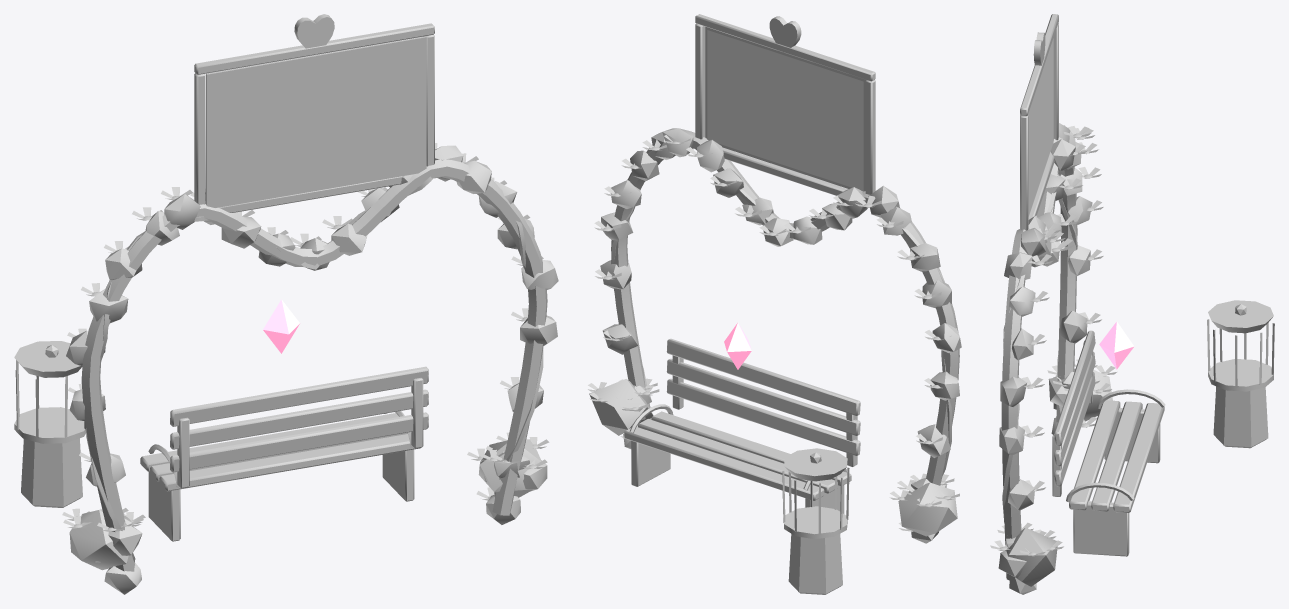
Rendered from zon_diaryring_heart.glb.
The picture shows the model from 3 angles, left to right: view 1: azimuth 30°, elevation 25°; view 2: azimuth 150°, elevation 25°; view 3: azimuth 270°, elevation 25°; orthographic projection. The views are drawn at different scales.
Visible parts, largest first — view 1: SM_zon_diaryring_heart_kit_diaryring_heart_xm1_z0, ANIM_bld_heart_marker__0; view 2: SM_zon_diaryring_heart_kit_diaryring_heart_xm1_z0, SCREEN_heart_heart__0, ANIM_bld_heart_marker__0; view 3: SM_zon_diaryring_heart_kit_diaryring_heart_xm1_z0, SCREEN_heart_heart__0, ANIM_bld_heart_marker__0.
Part boxes in pixels (<box>): SM_zon_diaryring_heart_kit_diaryring_heart_xm1_z0: <box>14,14,558,594</box>; ANIM_bld_heart_marker__0: <box>263,299,299,353</box>; SM_zon_diaryring_heart_kit_diaryring_heart_xm1_z0: <box>588,14,961,594</box>; SCREEN_heart_heart__0: <box>707,30,863,191</box>; ANIM_bld_heart_marker__0: <box>724,322,751,369</box>; SM_zon_diaryring_heart_kit_diaryring_heart_xm1_z0: <box>990,14,1274,594</box>; SCREEN_heart_heart__0: <box>1028,38,1053,216</box>; ANIM_bld_heart_marker__0: <box>1099,321,1134,369</box>.
Size of the model in its own units: 4.14 by 4.77 by 2.56.
